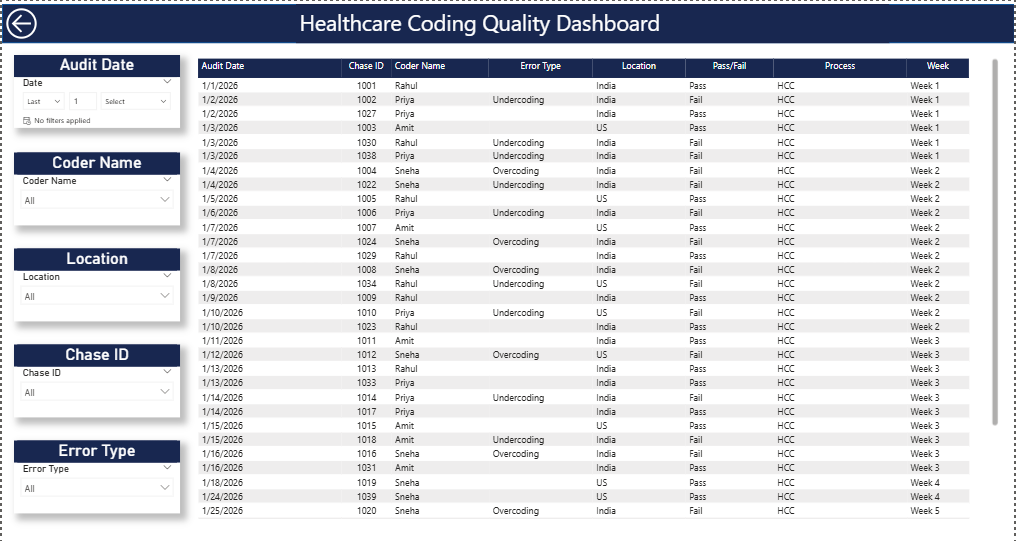

The dashboard page shown, as its layout file describes it:
{"tool":"powerbi","page":{"name":"Details","canvas":[1500,800],"ordinal":1},"visuals":[{"type":"shape","box":[0,3.7,1500,58],"z":0},{"type":"textbox","box":[436.5,3.7,878.8,57.7],"z":1000},{"type":"tableEx","fields":{"Values":["f_Data.Audit Date","f_Data.Chase ID","f_Data.Coder Name","f_Data.Error Type","f_Data.Location","f_Data.Pass/Fail","f_Data.Process","f_Data.Week"]},"box":[284.6,80.8,1196.2,692.3],"z":2000},{"type":"slicer","title":"Audit Date","fields":{"Values":["d_calendar.Date"]},"box":[17.3,80.8,246.2,107.7],"z":3000},{"type":"slicer","title":"Chase ID","fields":{"Values":["f_Data.Chase ID"]},"box":[17.3,509.1,246.2,107.7],"z":4000},{"type":"slicer","title":"Coder Name","fields":{"Values":["f_Data.Coder Name"]},"box":[17.3,223.6,246.2,107.7],"z":5000},{"type":"slicer","title":"Location","fields":{"Values":["f_Data.Location"]},"box":[17.3,366.3,246.2,107.7],"z":6000},{"type":"slicer","title":"Error Type","fields":{"Values":["f_Data.Error Type"]},"box":[17.3,651.9,246.2,107.7],"z":7000},{"type":"actionButton","box":[0,4.4,62.2,57.8],"z":7001}]}

Visuals, with their boxes in screenshot pixels (x1, y1, x2, y2), scaled from the page's 1500x800 canvas onto the 1016x541 screenshot:
shape: (left=0, top=3, right=1015, bottom=42)
textbox: (left=296, top=3, right=891, bottom=42)
tableEx - f_Data.Audit Date x f_Data.Chase ID: (left=193, top=55, right=1003, bottom=523)
"Audit Date" slicer: (left=12, top=55, right=178, bottom=127)
"Chase ID" slicer: (left=12, top=344, right=178, bottom=417)
"Coder Name" slicer: (left=12, top=151, right=178, bottom=224)
"Location" slicer: (left=12, top=248, right=178, bottom=321)
"Error Type" slicer: (left=12, top=441, right=178, bottom=514)
actionButton: (left=0, top=3, right=42, bottom=42)
